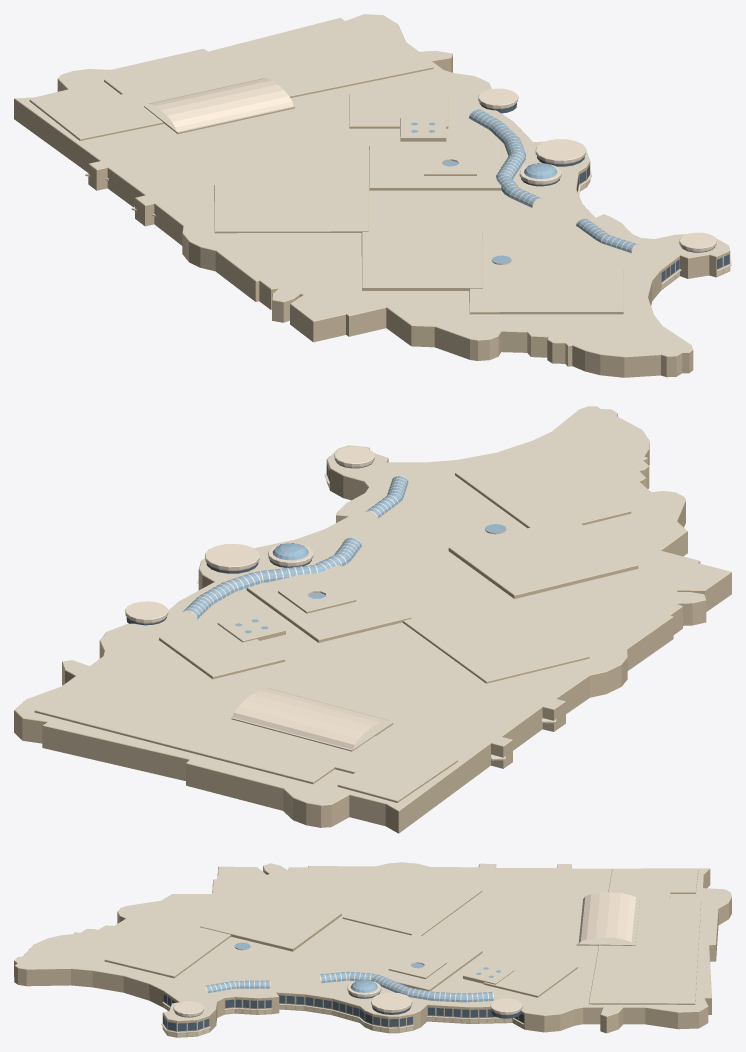
The model's file is dubai-mall.glb.
3 views of the same model, one above another, from view 1: azimuth 30°, elevation 25°; view 2: azimuth 150°, elevation 25°; view 3: azimuth 270°, elevation 25° (orthographic). The views are drawn at different scales.
Parts seen in each view (by area): view 1: The Dubai Mall; view 2: The Dubai Mall; view 3: The Dubai Mall.
Boxes of the visible parts, <box> form: The Dubai Mall: <box>14,14,731,377</box>; The Dubai Mall: <box>14,406,731,833</box>; The Dubai Mall: <box>14,862,731,1037</box>.
Size of the model in its own units: 422 by 33 by 805.
